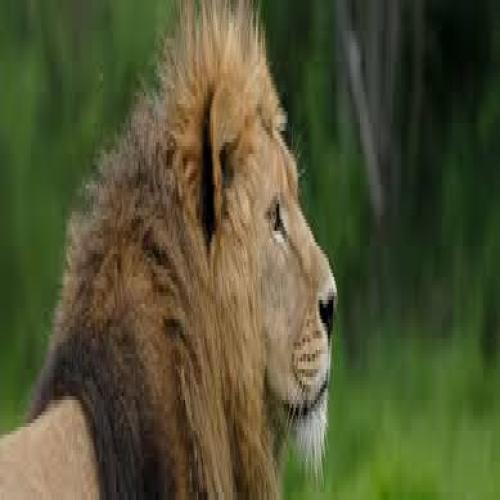lion-endangered: (12, 0, 336, 500)
